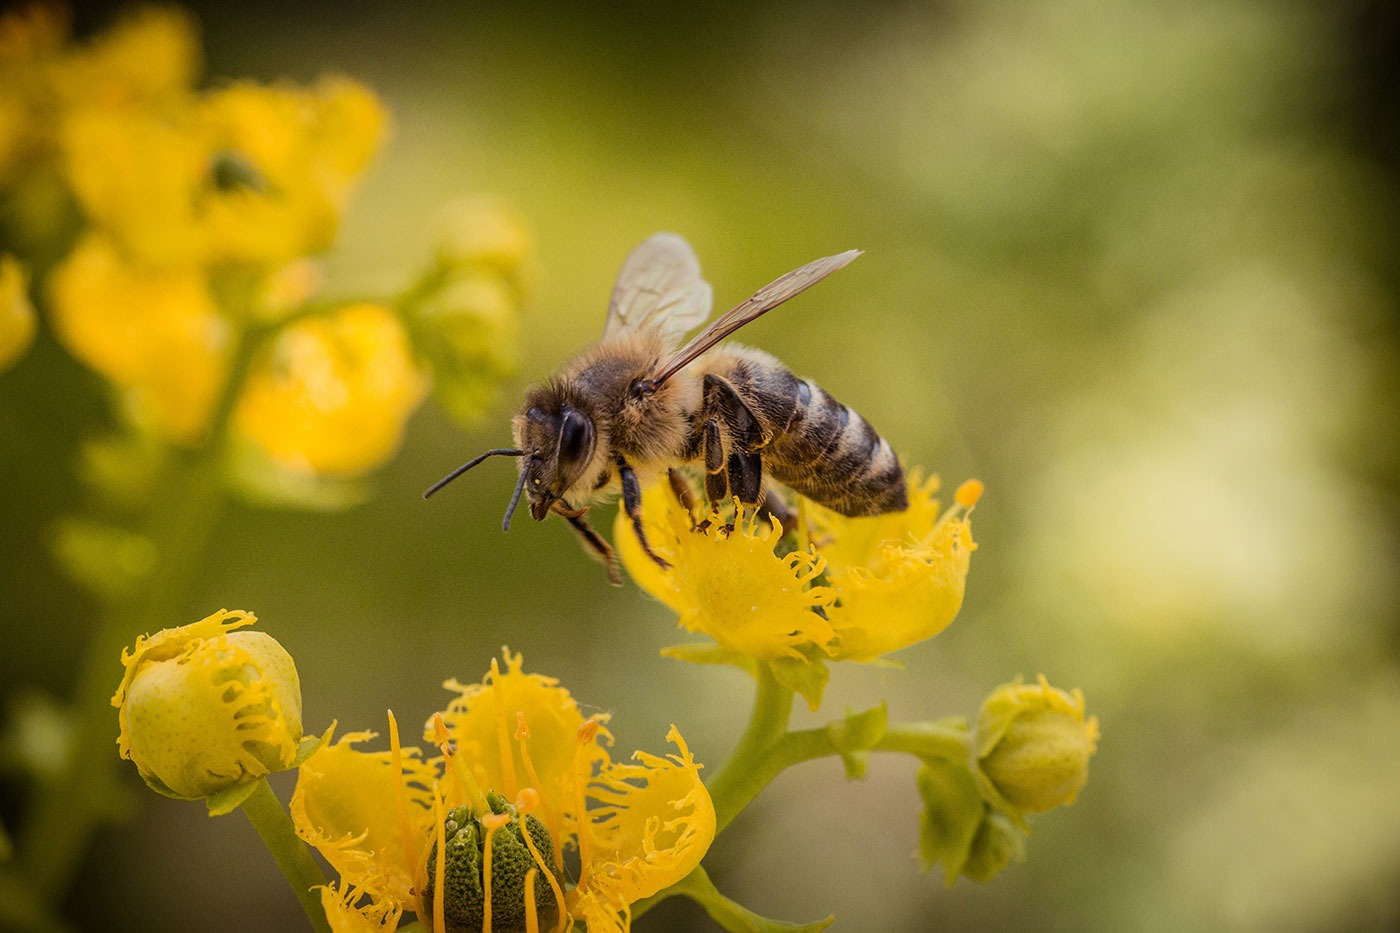bee: (485, 327, 922, 577)
